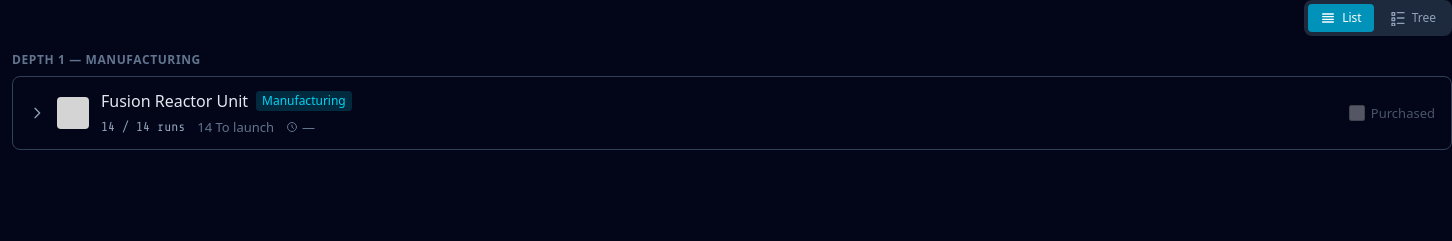
StepsTab fixed step runs › offers no release on a completed project
The width and height of the screenshot is (1452, 241).
Click the element with class "step-row" at (732, 113), box [12,76,1451,150]
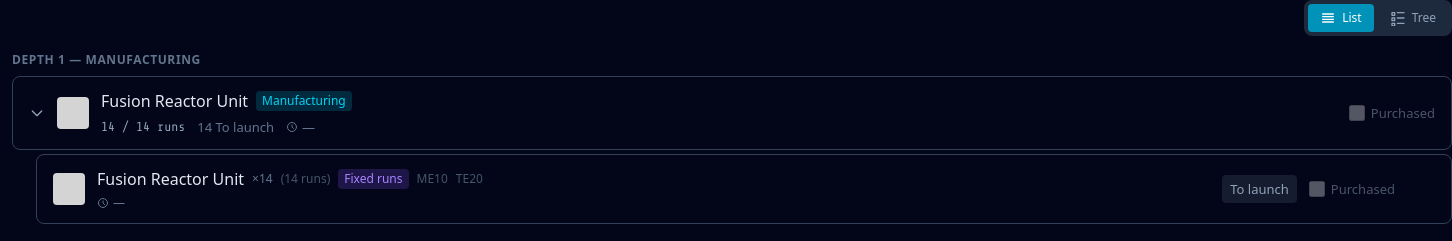
Now the text "Fixed runs" is shown, box [338,169,409,189]
Now the text with test id "fixed-step-runs" reads "Fixed runs", box [344,170,403,187]
